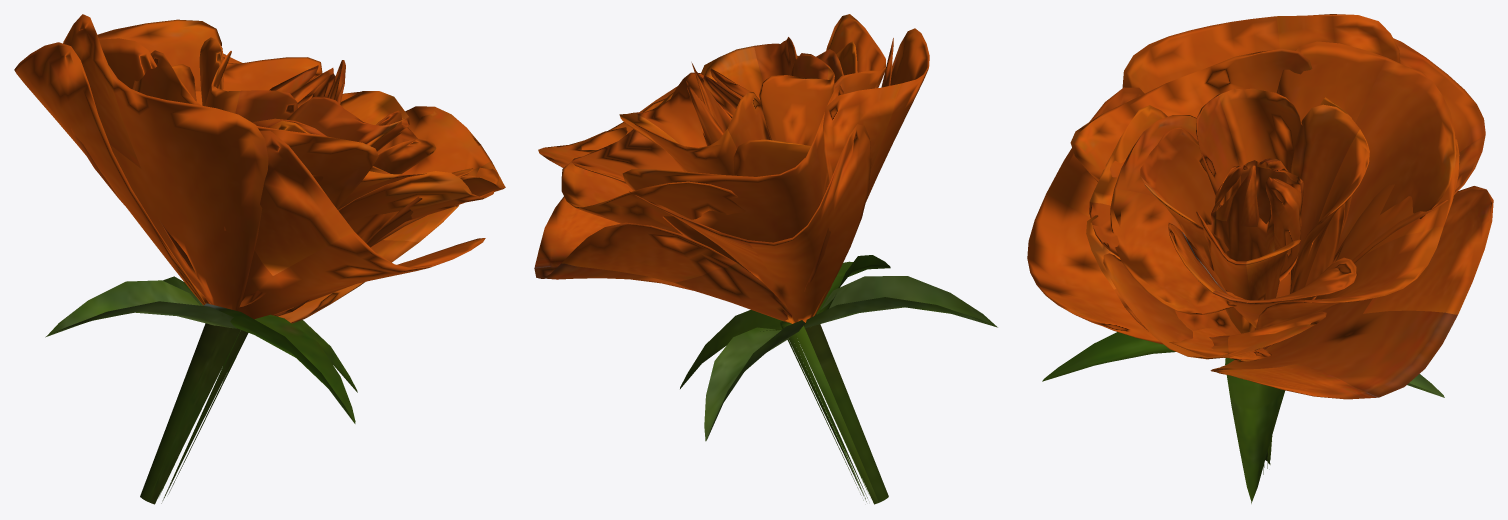
3 renders of one model, left to right at view 1: azimuth 30°, elevation 25°; view 2: azimuth 150°, elevation 25°; view 3: azimuth 270°, elevation 25°, orthographic.
Parts seen in each view (by area): view 1: d831be11; view 2: d831be11; view 3: d831be11.
Boxes of the visible parts, x1,y1,x2,y2 form: d831be11: (14,14,505,504); d831be11: (534,14,997,504); d831be11: (1027,14,1493,503).
Size of the model in its own units: 0.0938 by 0.092 by 0.086.
2 materials, 2 textured.
